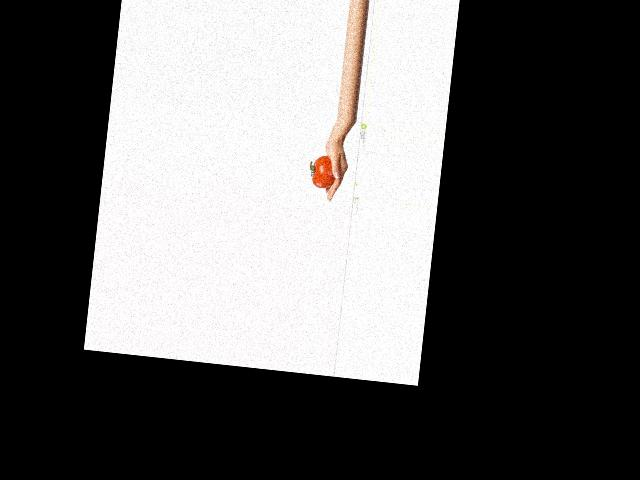tomato: (311, 155, 337, 189)
